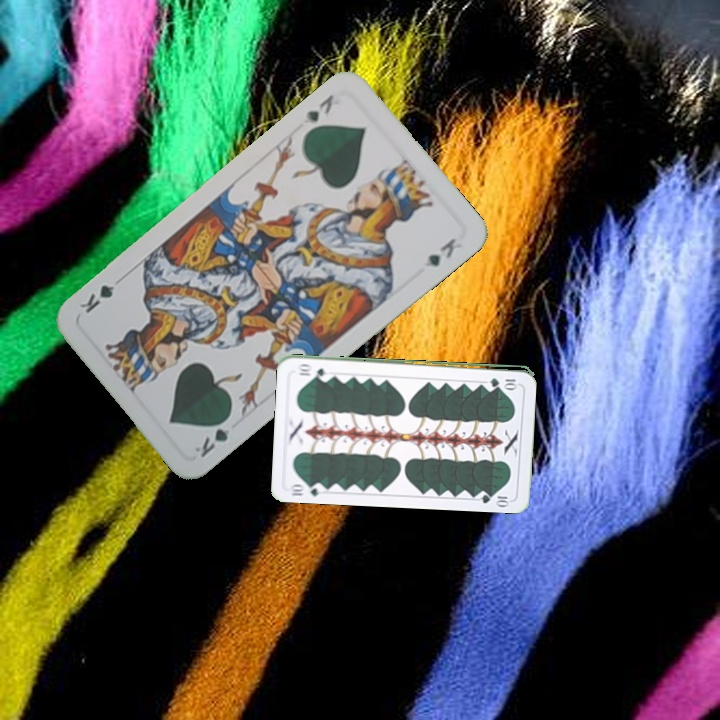G10: (287, 479, 326, 498), (485, 374, 520, 388)
GK: (190, 411, 234, 461), (299, 90, 337, 128)
